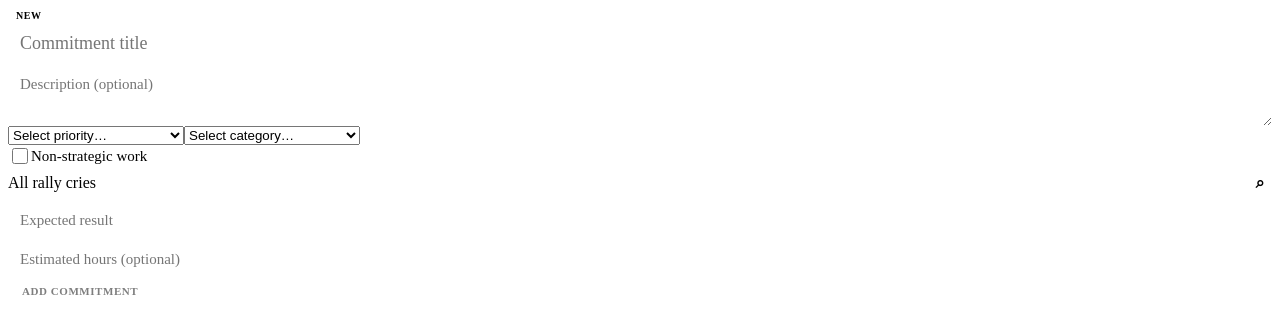
Test: CommitEditor › enables save button when title is entered
Type "New task" into the field with test id "commit-title" at {"x": 640, "y": 44}, box [8,22,1272,65]
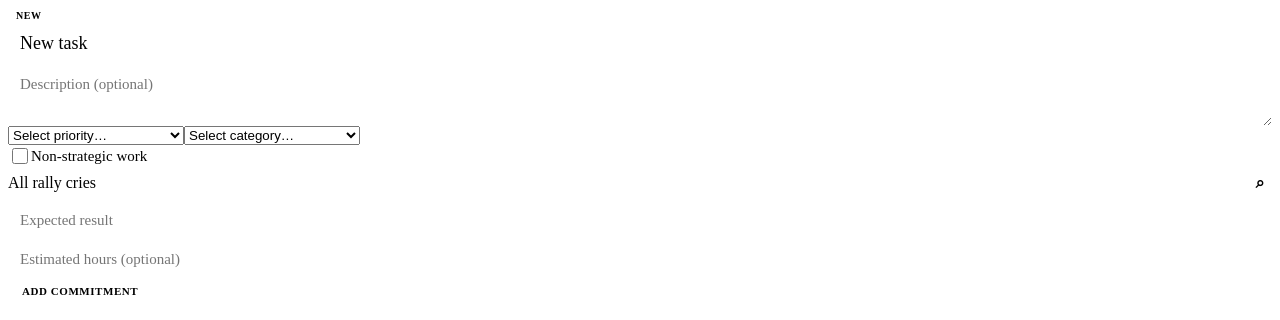
Check: the button with test id "commit-save" is enabled, box [8,278,152,303]
